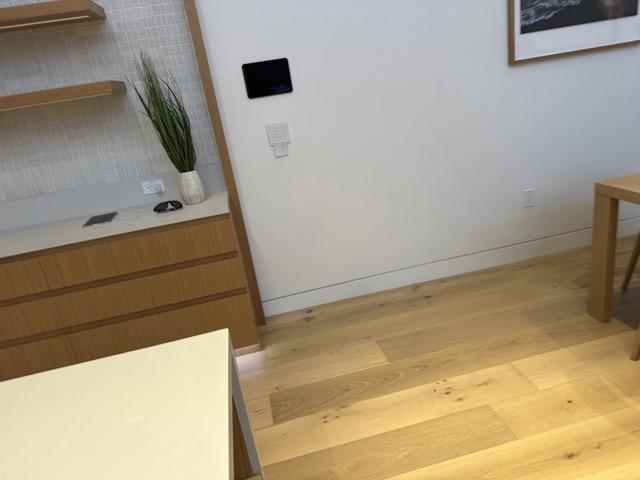Sunglasses: (153, 200, 184, 214)
